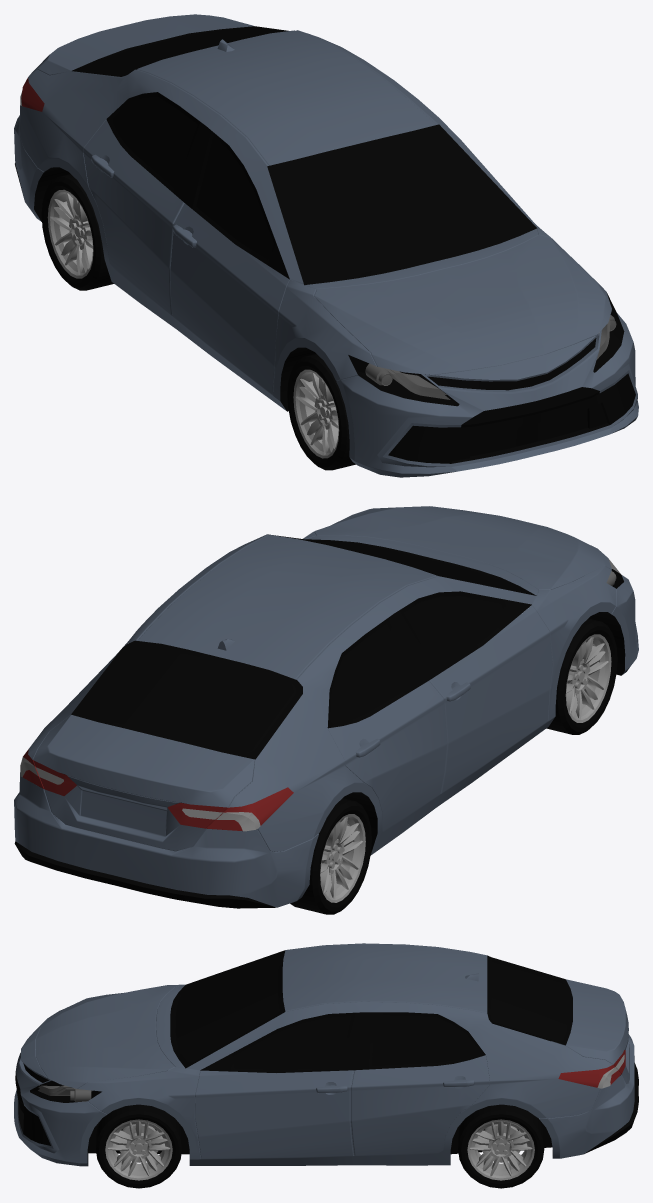
Rendered from camry_sedan_experimental.glb.
3 views of the same model, one above another, from view 1: azimuth 30°, elevation 25°; view 2: azimuth 150°, elevation 25°; view 3: azimuth 270°, elevation 25° (orthographic). The views are drawn at different scales.
Parts seen in each view (by area): view 1: #GuideMesh.001, #GuideMesh.002, #GuideMesh.005, Cylinder.003, Cylinder.002, Plane.001, #GuideMesh.004, #GuideMesh.003, Plane.002, #GuideMesh.006; view 2: #GuideMesh.001, #GuideMesh.002, Cylinder.003, Cylinder.002, #GuideMesh.009, #GuideMesh.008, #GuideMesh.006; view 3: #GuideMesh.001, #GuideMesh.002, Cylinder.001, Cylinder, #GuideMesh.005, #GuideMesh.009, Plane.001, #GuideMesh.006, Plane.002, #GuideMesh.008, #GuideMesh.007, #GuideMesh.003.
Boxes of the visible parts, x1,y1,x2,y2 form: #GuideMesh.001: [14, 14, 638, 477]; #GuideMesh.002: [72, 26, 536, 284]; #GuideMesh.005: [383, 370, 637, 471]; Cylinder.003: [41, 174, 113, 290]; Cylinder.002: [287, 354, 355, 470]; Plane.001: [348, 293, 623, 405]; #GuideMesh.004: [421, 330, 601, 393]; #GuideMesh.003: [348, 293, 624, 405]; Plane.002: [365, 315, 616, 399]; #GuideMesh.006: [34, 167, 429, 411]; #GuideMesh.001: [14, 506, 638, 907]; #GuideMesh.002: [71, 534, 536, 759]; Cylinder.003: [290, 798, 371, 914]; Cylinder.002: [546, 618, 617, 734]; #GuideMesh.009: [20, 749, 293, 831]; #GuideMesh.008: [14, 841, 275, 908]; #GuideMesh.006: [64, 612, 625, 904]; #GuideMesh.001: [16, 943, 634, 1166]; #GuideMesh.002: [170, 950, 572, 1072]; Cylinder.001: [458, 1104, 544, 1188]; Cylinder: [96, 1104, 182, 1188]; #GuideMesh.005: [14, 1071, 53, 1148]; #GuideMesh.009: [558, 1050, 625, 1088]; Plane.001: [30, 1081, 101, 1102]; #GuideMesh.006: [87, 1020, 621, 1165]; Plane.002: [38, 1085, 92, 1101]; #GuideMesh.008: [584, 1063, 638, 1153]; #GuideMesh.007: [316, 1079, 474, 1093]; #GuideMesh.003: [30, 1081, 101, 1102].
Size of the model in its own units: 1.86 by 1.46 by 4.85.
